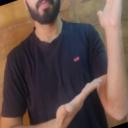hand: (56, 74, 107, 123), (96, 0, 128, 32)
